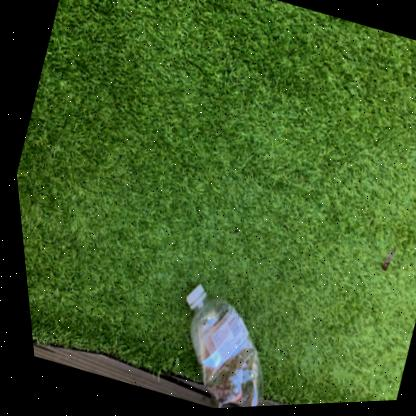Plastic: (180, 286, 255, 410)
